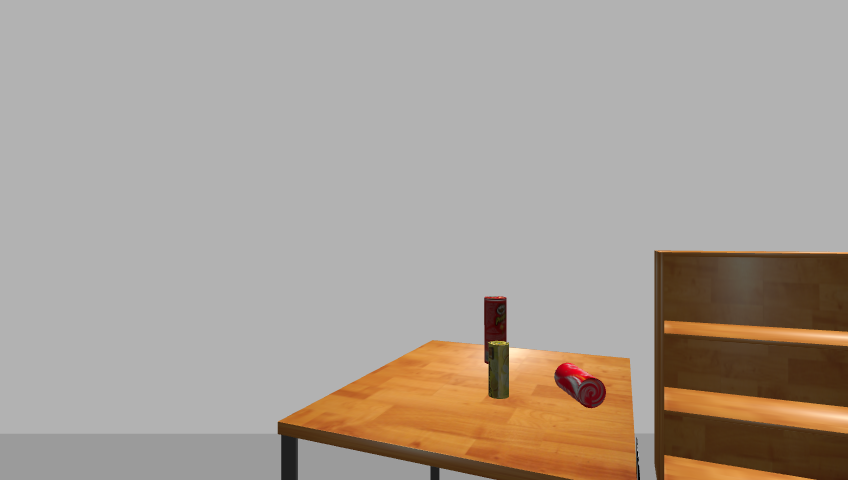biscuits pack: (487, 341, 511, 400)
bookshelf: (649, 249, 848, 479)
coke can: (552, 363, 608, 409)
dinner table: (271, 341, 646, 480)
pringles can: (481, 294, 509, 368)
